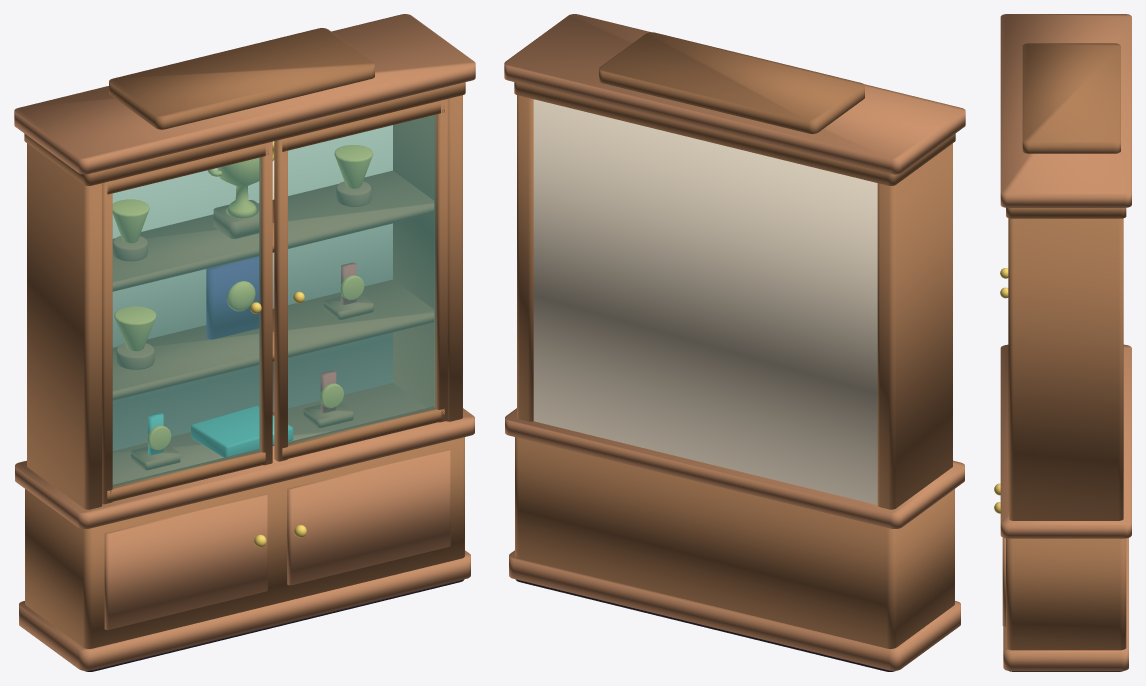
The model's file is trophy-display-case.glb.
3 views of the same model, side by side, from view 1: azimuth 30°, elevation 25°; view 2: azimuth 150°, elevation 25°; view 3: azimuth 270°, elevation 25° (orthographic). The views are drawn at different scales.
Parts seen in each view (by area): view 1: HallwayTrophyCase_WoodCabinet, HallwayTrophyCase_GlassDoors, HallwayTrophyCase_TerracottaTrim, HallwayTrophyCase_CreamBacking, HallwayTrophyCase_ButterTrophies, HallwayTrophyCase_IndigoCrest, HallwayTrophyCase_TurquoiseBook, HallwayTrophyCase_SlatePads; view 2: HallwayTrophyCase_CreamBacking, HallwayTrophyCase_WoodCabinet, HallwayTrophyCase_TerracottaTrim, HallwayTrophyCase_SlatePads; view 3: HallwayTrophyCase_WoodCabinet, HallwayTrophyCase_TerracottaTrim, HallwayTrophyCase_ButterTrophies.
Boxes of the visible parts, x1,y1,x2,y2 form: HallwayTrophyCase_WoodCabinet: [24, 28, 465, 648]; HallwayTrophyCase_GlassDoors: [112, 115, 436, 487]; HallwayTrophyCase_TerracottaTrim: [14, 14, 475, 670]; HallwayTrophyCase_CreamBacking: [112, 125, 392, 450]; HallwayTrophyCase_ButterTrophies: [112, 142, 372, 547]; HallwayTrophyCase_IndigoCrest: [206, 256, 259, 339]; HallwayTrophyCase_TurquoiseBook: [148, 406, 293, 457]; HallwayTrophyCase_SlatePads: [85, 579, 464, 671]; HallwayTrophyCase_CreamBacking: [533, 99, 877, 504]; HallwayTrophyCase_WoodCabinet: [514, 32, 955, 648]; HallwayTrophyCase_TerracottaTrim: [504, 14, 965, 670]; HallwayTrophyCase_SlatePads: [515, 579, 894, 671]; HallwayTrophyCase_WoodCabinet: [1006, 43, 1126, 650]; HallwayTrophyCase_TerracottaTrim: [1000, 14, 1131, 671]; HallwayTrophyCase_ButterTrophies: [994, 268, 1008, 513].
Size of the model in its own units: 1.56 by 1.99 by 0.504.
